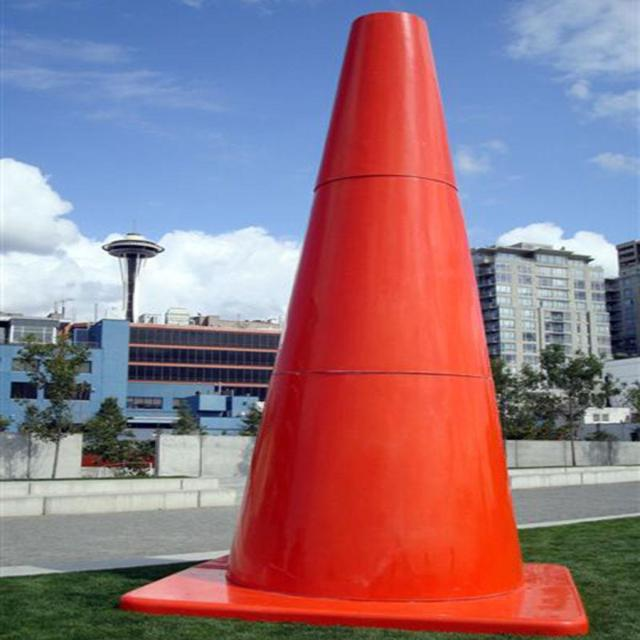Traffic Cone: (106, 0, 618, 640)
